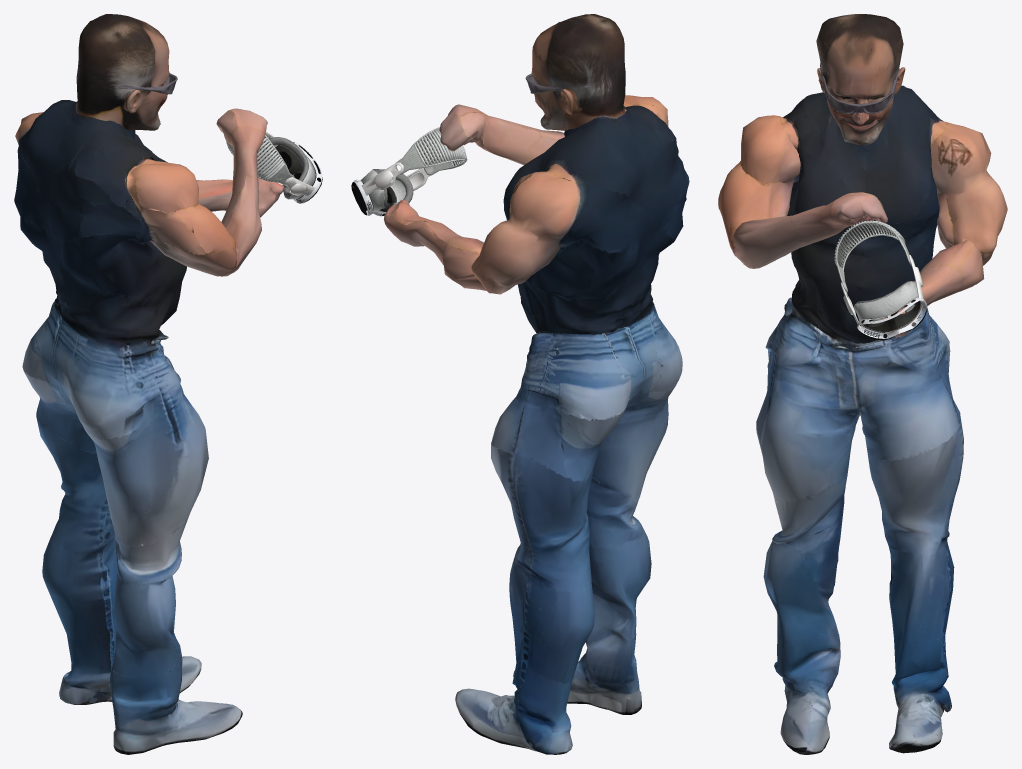
The model's file is steve-900-opt-v4.glb.
3 renders of one model, left to right at view 1: azimuth 30°, elevation 25°; view 2: azimuth 150°, elevation 25°; view 3: azimuth 270°, elevation 25°, orthographic.
Parts seen in each view (by area): view 1: tripo_mat_cbcfffb6-1f4e-443b-88ed-b6e5d10f9aa2.001; view 2: tripo_mat_cbcfffb6-1f4e-443b-88ed-b6e5d10f9aa2.001; view 3: tripo_mat_cbcfffb6-1f4e-443b-88ed-b6e5d10f9aa2.001.
Boxes of the visible parts, x1,y1,x2,y2 form: tripo_mat_cbcfffb6-1f4e-443b-88ed-b6e5d10f9aa2.001: [14, 14, 322, 754]; tripo_mat_cbcfffb6-1f4e-443b-88ed-b6e5d10f9aa2.001: [351, 14, 689, 754]; tripo_mat_cbcfffb6-1f4e-443b-88ed-b6e5d10f9aa2.001: [718, 14, 1007, 754].
Size of the model in its own units: 2.12 by 5 by 1.87.
3 materials, 3 textured.
